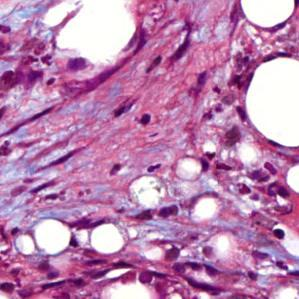steatosis: (90, 222, 123, 254)
